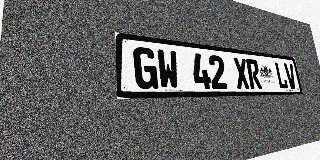2: (208, 54, 227, 89)
4: (191, 53, 212, 89)
G: (133, 46, 158, 89)
L: (274, 62, 288, 89)
R: (246, 59, 262, 89)
V: (283, 63, 297, 89)
W: (156, 49, 180, 89)
X: (233, 57, 250, 89)
